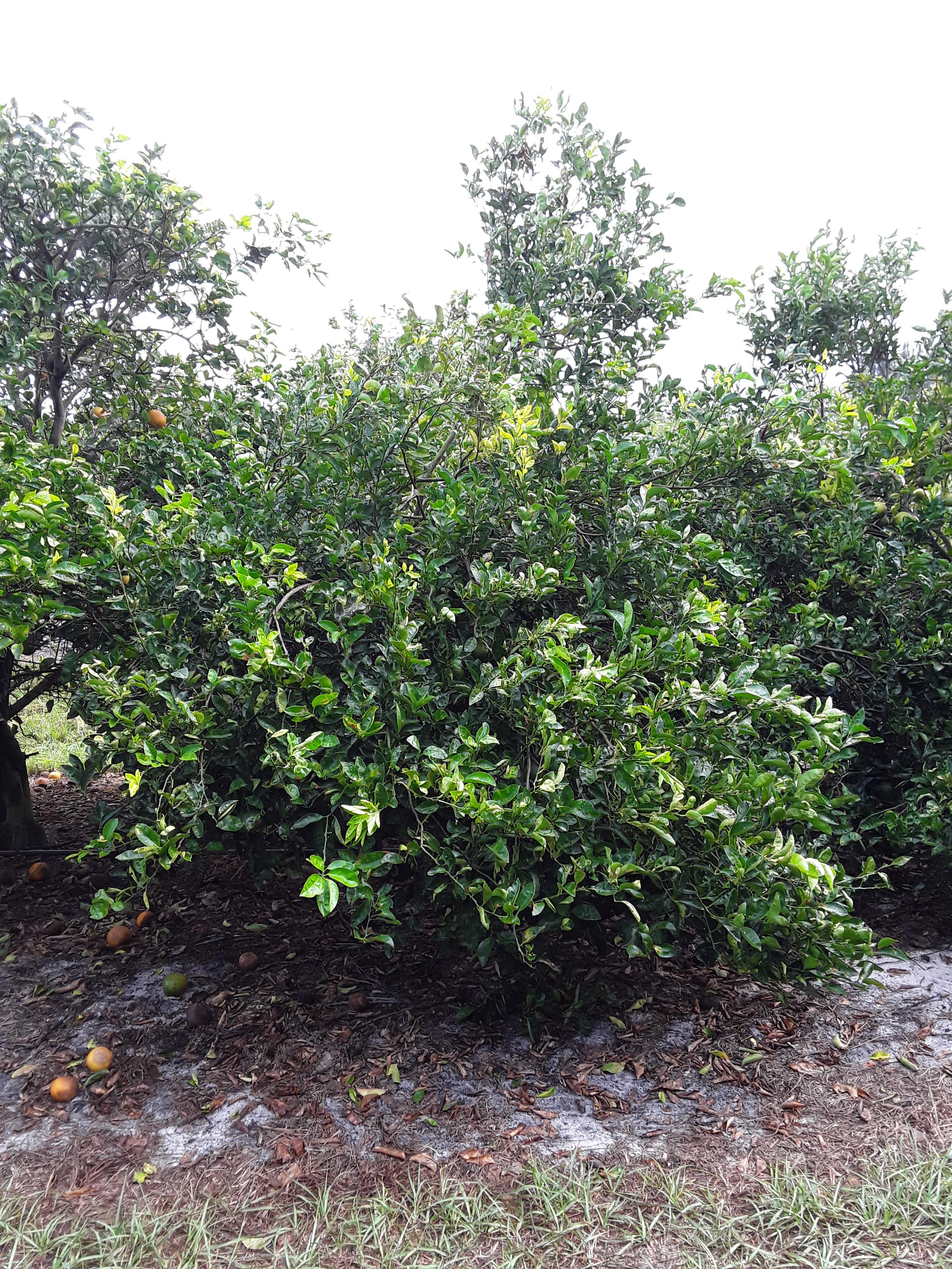fruit_on_ground: (865, 495, 890, 520), (144, 406, 170, 430), (469, 638, 493, 661), (892, 509, 915, 532), (88, 401, 110, 424), (911, 489, 925, 501), (941, 492, 952, 507)
fruit_on_tree: (156, 968, 191, 1002), (83, 1041, 118, 1075), (47, 1072, 81, 1105), (183, 1000, 214, 1030), (103, 922, 135, 951), (345, 989, 372, 1015), (27, 858, 53, 884), (235, 948, 262, 972), (132, 907, 158, 931), (49, 769, 63, 782), (35, 775, 49, 787)
